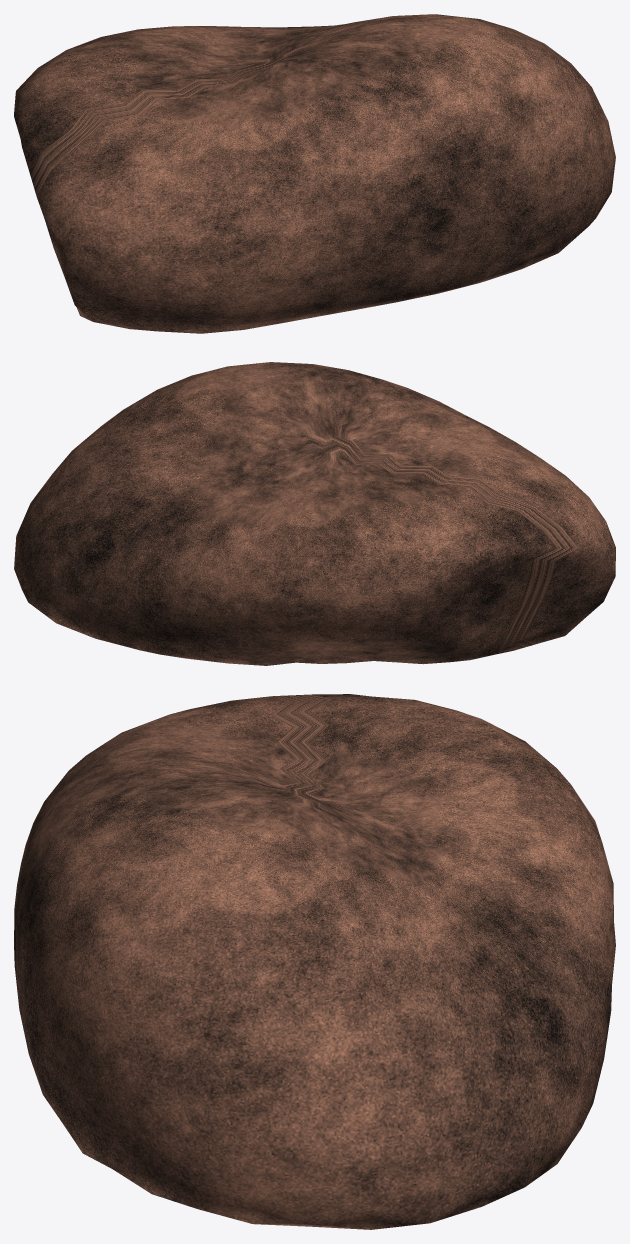
Rendered from rock_3.dae.
3 views of the same model, one above another, from view 1: azimuth 30°, elevation 25°; view 2: azimuth 150°, elevation 25°; view 3: azimuth 270°, elevation 25° (orthographic). The views are drawn at different scales.
Parts seen in each view (by area): view 1: rock_3-node; view 2: rock_3-node; view 3: rock_3-node.
Boxes of the visible parts, <box> form: rock_3-node: <box>14,14,615,333</box>; rock_3-node: <box>14,362,615,665</box>; rock_3-node: <box>14,694,615,1229</box>.
Size of the model in its own units: 1.74 by 1.19 by 0.5811.
Materials: 1 (1 with a texture image).
